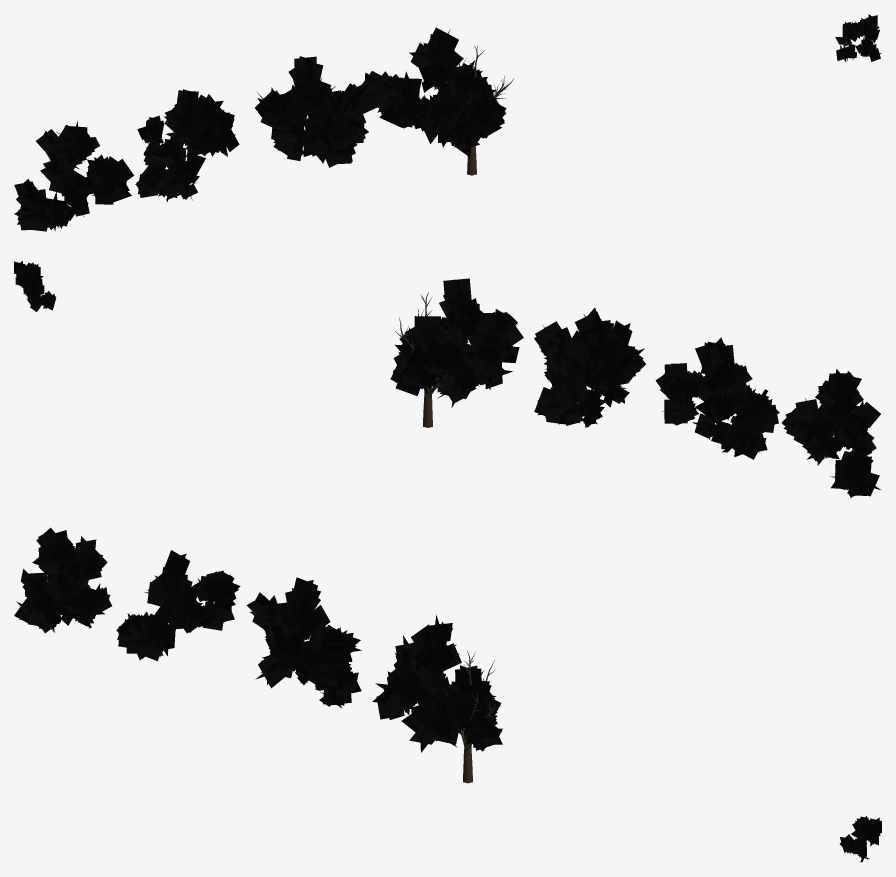
File: no_leaves_tree_ten.glb
The picture shows the model from 3 angles, top to bottom: view 1: azimuth 30°, elevation 25°; view 2: azimuth 150°, elevation 25°; view 3: azimuth 330°, elevation 25°; orthographic projection. The views are drawn at different scales.
Visible parts, largest first — view 1: leaves.004_9, leaves.003_6, leaves.001_0, leaves.002_3, leaves.010_24, Object_25, trunk.001_1; view 2: leaves.003_6, leaves.002_3, leaves.004_9, leaves.001_0, Object_30, leaves.010_24, Object_25, trunk.001_1; view 3: leaves.003_6, leaves.004_9, leaves.002_3, leaves.001_0, Object_25, Object_30, leaves.010_24, trunk.001_1.
Boxes of the visible parts, x1=… form: leaves.004_9: x1=362, y1=27, x2=504, y2=157; leaves.003_6: x1=255, y1=56, x2=380, y2=167; leaves.001_0: x1=14, y1=121, x2=133, y2=231; leaves.002_3: x1=135, y1=89, x2=239, y2=201; leaves.010_24: x1=835, y1=14, x2=881, y2=62; Object_25: x1=438, y1=70, x2=506, y2=146; trunk.001_1: x1=456, y1=45, x2=513, y2=175; leaves.003_6: x1=534, y1=307, x2=646, y2=427; leaves.002_3: x1=655, y1=337, x2=779, y2=459; leaves.004_9: x1=399, y1=278, x2=523, y2=407; leaves.001_0: x1=781, y1=369, x2=881, y2=497; Object_30: x1=395, y1=333, x2=464, y2=393; leaves.010_24: x1=14, y1=261, x2=56, y2=311; Object_25: x1=390, y1=335, x2=467, y2=395; trunk.001_1: x1=395, y1=292, x2=450, y2=427; leaves.003_6: x1=246, y1=577, x2=361, y2=707; leaves.004_9: x1=372, y1=615, x2=495, y2=752; leaves.002_3: x1=116, y1=550, x2=240, y2=661; leaves.001_0: x1=14, y1=527, x2=111, y2=632; Object_25: x1=427, y1=681, x2=502, y2=751; Object_30: x1=428, y1=678, x2=501, y2=735; leaves.010_24: x1=840, y1=816, x2=881, y2=862; trunk.001_1: x1=443, y1=651, x2=500, y2=783.
Size of the model in its own units: 705 by 122 by 91.13.
2 materials, 2 textured.
